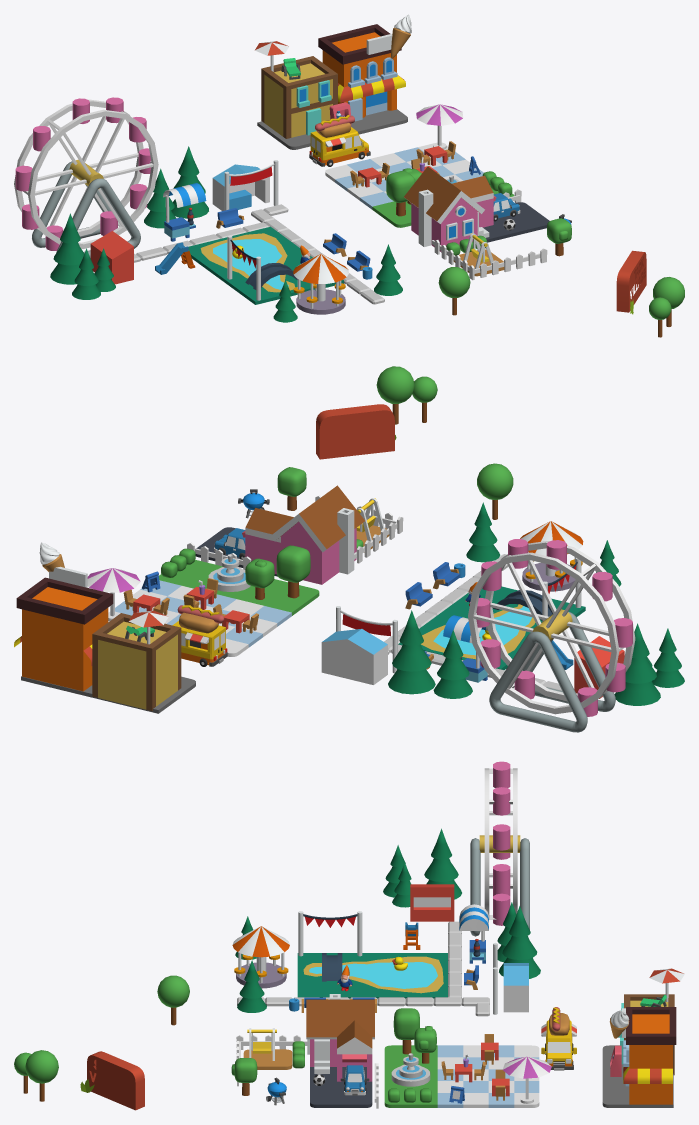
3 views of the same model, one above another, from view 1: azimuth 30°, elevation 25°; view 2: azimuth 150°, elevation 25°; view 3: azimuth 270°, elevation 25° (orthographic). The views are drawn at different scales.
Visible parts, largest first — view 1: Shape003, Box003, Box004, Box3722, Box001, Box009, Cylinder2107, Box3715, Box3717, Plane5835, Box3716, MultiMesher002 (+27 smaller); view 2: Shape003, Box003, Box004, Box001, MultiMesher002, Box3722, Box009, Box3717, Box008, BLD_01_Fir_s009, Cylinder2107, BLD_01_Fir_s011 (+25 smaller); view 3: Shape003, Box3722, Box003, Box009, Box001, Box3715, MultiMesher002, Cylinder2107, Box008, Box3716, Box005, Object11348 (+24 smaller).
Boxes of the visible parts, left/top/right/bottom form: Shape003: left=14, top=97, right=158, bottom=258; Box003: left=318, top=14, right=411, bottom=121; Box004: left=261, top=56, right=337, bottom=138; Box3722: left=188, top=226, right=343, bottom=304; Box001: left=404, top=166, right=489, bottom=251; Box009: left=325, top=143, right=483, bottom=209; Cylinder2107: left=293, top=254, right=348, bottom=314; Box3715: left=134, top=204, right=384, bottom=304; Box3717: left=212, top=164, right=269, bottom=210; Plane5835: left=309, top=127, right=370, bottom=166; Box3716: left=90, top=231, right=133, bottom=284; MultiMesher002: left=616, top=250, right=646, bottom=312; Shape003: left=468, top=539, right=635, bottom=732; Box003: left=14, top=542, right=113, bottom=691; Box004: left=92, top=613, right=181, bottom=710; Box001: left=271, top=485, right=364, bottom=584; MultiMesher002: left=316, top=404, right=394, bottom=459; Box3722: left=398, top=586, right=585, bottom=669; Box009: left=108, top=580, right=291, bottom=656; Box3717: left=321, top=628, right=387, bottom=684; Box008: left=159, top=559, right=319, bottom=615; BLD_01_Fir_s009: left=388, top=610, right=435, bottom=694; Cylinder2107: left=520, top=521, right=583, bottom=591; BLD_01_Fir_s011: left=614, top=623, right=660, bottom=705; Shape003: left=470, top=761, right=529, bottom=936; Box3722: left=297, top=953, right=447, bottom=998; Box003: left=609, top=1007, right=676, bottom=1104; Box009: left=437, top=1045, right=539, bottom=1107; Box001: left=306, top=994, right=374, bottom=1073; Box3715: left=237, top=921, right=489, bottom=1016; MultiMesher002: left=87, top=1051, right=144, bottom=1110; Cylinder2107: left=232, top=926, right=289, bottom=988; Box008: left=384, top=1045, right=437, bottom=1107; Box3716: left=410, top=884, right=454, bottom=921; Box005: left=310, top=1067, right=372, bottom=1107; Object11348: left=337, top=1020, right=372, bottom=1081.
Bounding box in the file's own units: 3647 × 4532 × 1138.
1 material, 1 textured.
